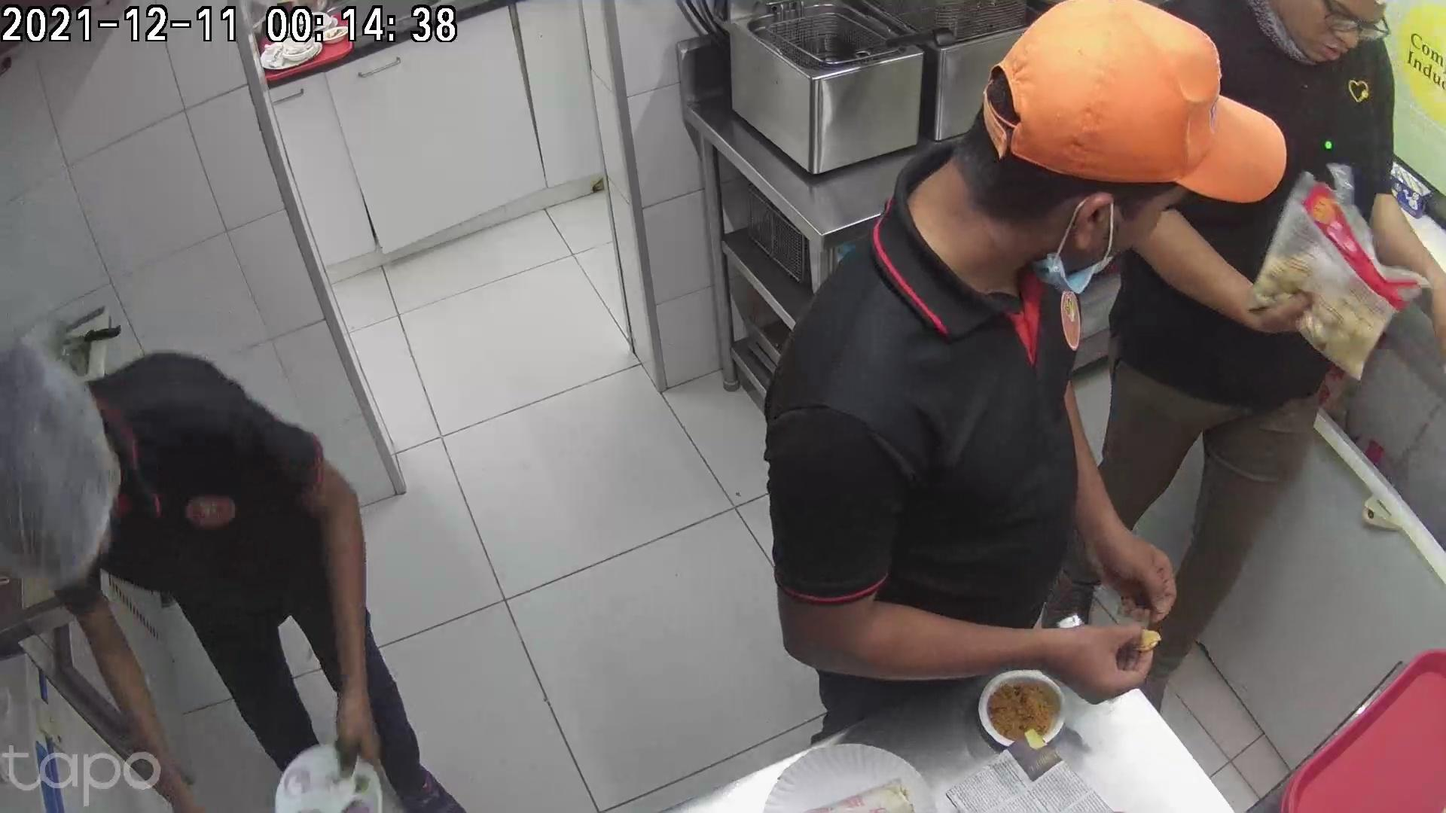gloves: (878, 616, 995, 749)
no_gloves: (1036, 588, 1119, 721)
